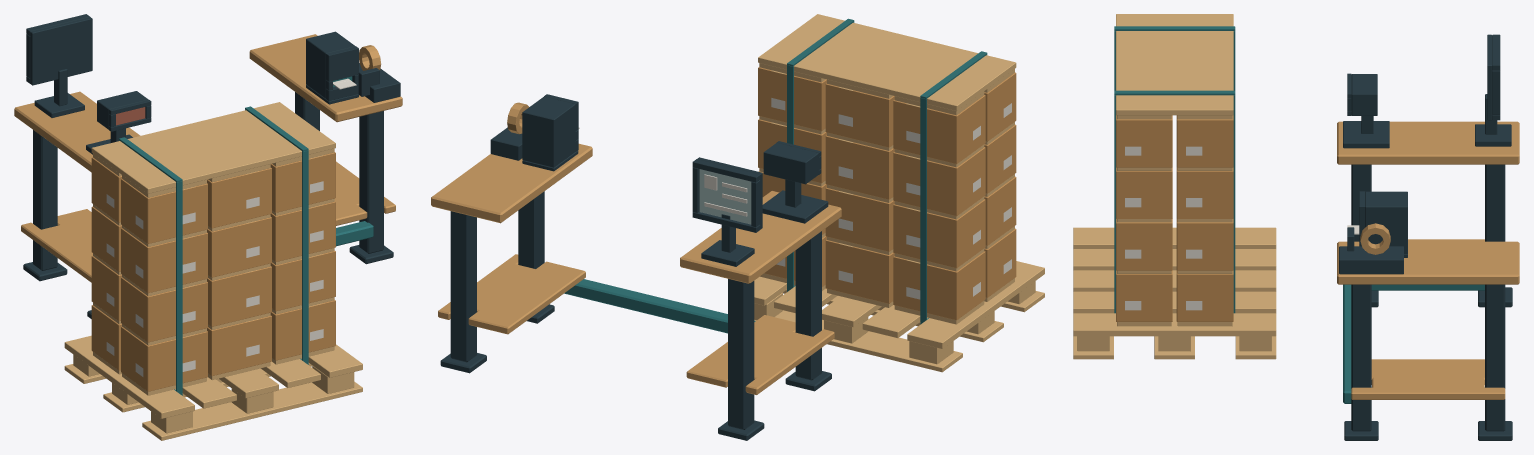
The model's file is receiver-workcell-fixture.glb.
The picture shows the model from 3 angles, left to right: view 1: azimuth 30°, elevation 25°; view 2: azimuth 150°, elevation 25°; view 3: azimuth 270°, elevation 25°; orthographic projection. The views are drawn at different scales.
Visible parts, largest first — view 1: receiver-workcell-fixture__batch_15, receiver-workcell-fixture__batch_14, receiver-workcell-fixture__batch_02, receiver-workcell-fixture__batch_00, receiver-workcell-fixture__batch_08, receiver-workcell-fixture__batch_13, receiver-workcell-fixture__batch_04, receiver-workcell-fixture__batch_06, receiver-workcell-fixture__batch_11, receiver-workcell-fixture__batch_01, receiver-workcell-fixture__batch_12; view 2: receiver-workcell-fixture__batch_15, receiver-workcell-fixture__batch_14, receiver-workcell-fixture__batch_02, receiver-workcell-fixture__batch_00, receiver-workcell-fixture__batch_04, receiver-workcell-fixture__batch_06, receiver-workcell-fixture__batch_08, receiver-workcell-fixture__batch_13, receiver-workcell-fixture__batch_01, receiver-workcell-fixture__batch_10, receiver-workcell-fixture__batch_11, receiver-workcell-fixture__batch_09; view 3: receiver-workcell-fixture__batch_14, receiver-workcell-fixture__batch_15, receiver-workcell-fixture__batch_02, receiver-workcell-fixture__batch_00, receiver-workcell-fixture__batch_13, receiver-workcell-fixture__batch_06, receiver-workcell-fixture__batch_04, receiver-workcell-fixture__batch_08, receiver-workcell-fixture__batch_01, receiver-workcell-fixture__batch_11, receiver-workcell-fixture__batch_12.
Boxes of the visible parts, bbox=[...] form: receiver-workcell-fixture__batch_15: bbox=[91, 152, 335, 391]; receiver-workcell-fixture__batch_14: bbox=[64, 102, 362, 440]; receiver-workcell-fixture__batch_02: bbox=[14, 34, 402, 282]; receiver-workcell-fixture__batch_00: bbox=[23, 92, 393, 318]; receiver-workcell-fixture__batch_08: bbox=[26, 14, 92, 117]; receiver-workcell-fixture__batch_13: bbox=[119, 106, 308, 395]; receiver-workcell-fixture__batch_04: bbox=[306, 31, 358, 104]; receiver-workcell-fixture__batch_06: bbox=[86, 91, 151, 154]; receiver-workcell-fixture__batch_11: bbox=[358, 63, 400, 102]; receiver-workcell-fixture__batch_01: bbox=[336, 221, 373, 246]; receiver-workcell-fixture__batch_12: bbox=[359, 45, 381, 70]; receiver-workcell-fixture__batch_15: bbox=[758, 67, 1016, 320]; receiver-workcell-fixture__batch_14: bbox=[754, 14, 1044, 372]; receiver-workcell-fixture__batch_02: bbox=[431, 143, 841, 394]; receiver-workcell-fixture__batch_00: bbox=[440, 191, 831, 440]; receiver-workcell-fixture__batch_04: bbox=[522, 94, 578, 171]; receiver-workcell-fixture__batch_06: bbox=[762, 141, 828, 223]; receiver-workcell-fixture__batch_08: bbox=[692, 157, 762, 266]; receiver-workcell-fixture__batch_13: bbox=[787, 18, 987, 324]; receiver-workcell-fixture__batch_01: bbox=[564, 279, 755, 333]; receiver-workcell-fixture__batch_10: bbox=[699, 169, 751, 224]; receiver-workcell-fixture__batch_11: bbox=[490, 127, 522, 160]; receiver-workcell-fixture__batch_09: bbox=[704, 174, 747, 216]; receiver-workcell-fixture__batch_14: bbox=[1073, 14, 1276, 359]; receiver-workcell-fixture__batch_15: bbox=[1116, 115, 1233, 321]; receiver-workcell-fixture__batch_02: bbox=[1337, 121, 1519, 399]; receiver-workcell-fixture__batch_00: bbox=[1344, 164, 1512, 440]; receiver-workcell-fixture__batch_13: bbox=[1114, 26, 1235, 313]; receiver-workcell-fixture__batch_06: bbox=[1343, 73, 1389, 148]; receiver-workcell-fixture__batch_04: bbox=[1359, 191, 1407, 257]; receiver-workcell-fixture__batch_08: bbox=[1475, 34, 1511, 146]; receiver-workcell-fixture__batch_01: bbox=[1343, 284, 1484, 403]; receiver-workcell-fixture__batch_11: bbox=[1339, 227, 1403, 274]; receiver-workcell-fixture__batch_12: bbox=[1360, 223, 1390, 254].
Bounding box in the file's own units: 2.19 × 1.4 × 2.2.
